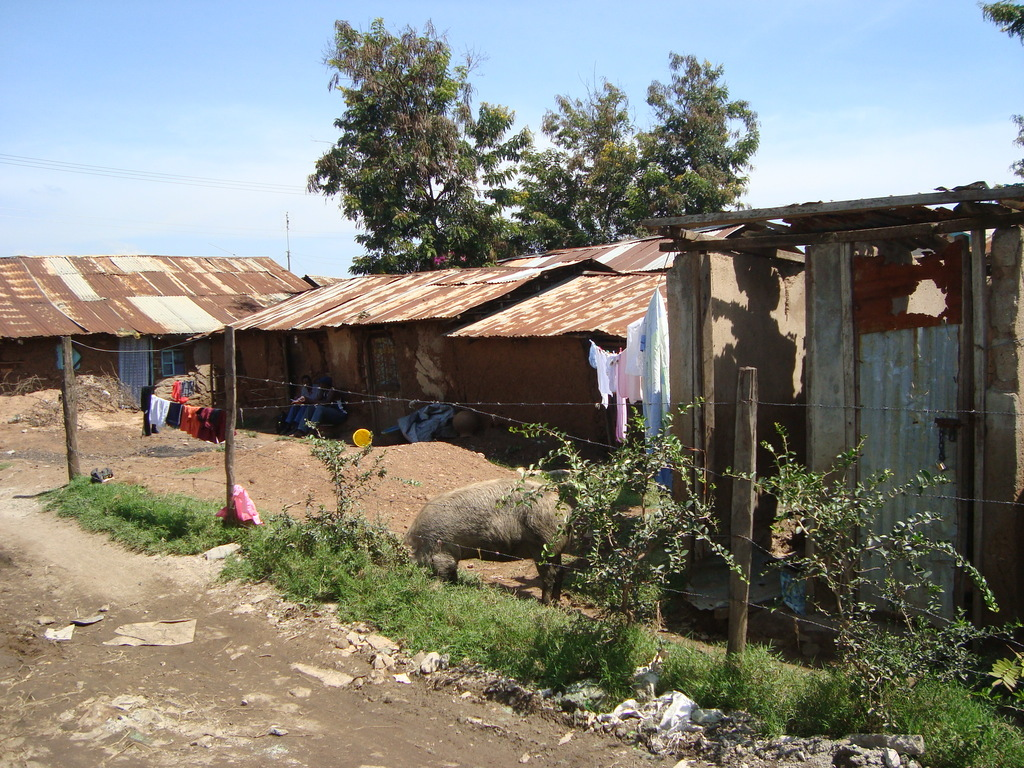Animal: (397, 470, 617, 607)
